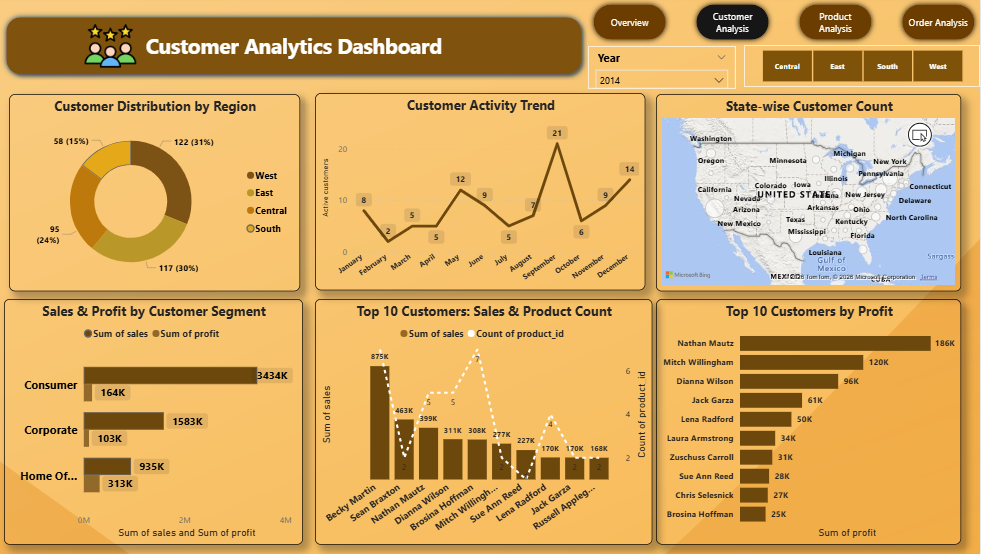

What the dashboard file says about the page in this screenshot:
{"tool":"powerbi","page":{"name":"Customer Analysis","canvas":[1400,800],"ordinal":1},"visuals":[{"type":"donutChart","title":"Customer Distribution by Region","fields":{"Category":["superstore customers.region"],"Y":["CountNonNull(superstore customers.customer_name)"]},"box":[12.6,135.4,415.7,281.9],"z":0},{"type":"map","title":"State-wise Customer Count","fields":{"Category":["superstore customers.state"],"Size":["Count(superstore customers.customer_name)"]},"box":[937,135.4,436.2,281.9],"z":1000},{"type":"clusteredBarChart","title":"Sales & Profit by Customer Segment","fields":{"Category":["superstore customers.segment"],"Y":["Sum(superstore orders_clean.sales)","Sum(superstore orders_clean.profit)"]},"box":[6.3,428.3,426.8,351.2],"z":2000},{"type":"lineStackedColumnComboChart","title":"Top 10 Customers: Sales & Product Count","fields":{"Category":["superstore customers.customer_name"],"Y":["Sum(superstore orders_clean.sales)"],"Y2":["CountNonNull(superstore orders_clean.product_id)"]},"box":[450.4,428.3,481.9,351.2],"z":3000},{"type":"lineChart","title":"Customer Activity Trend","fields":{"Category":["superstore orders_clean.order_date.Variation.Date Hierarchy.Month"],"Y":["superstore customers.Active customers"]},"box":[450.4,133.9,472.4,281.9],"z":4000},{"type":"shape","box":[0,17.3,839.4,99.2],"z":5000},{"type":"image","box":[96.1,29.9,124.4,74],"z":6000},{"type":"clusteredBarChart","title":"Top 10 Customers by Profit","fields":{"Category":["superstore customers.customer_name"],"Y":["Sum(superstore orders_clean.profit)"]},"box":[937,428.3,436.2,351.2],"z":7000},{"type":"slicer","fields":{"Values":["superstore orders_clean.order_date.Variation.Date Hierarchy.Year"]},"box":[839.4,67.7,211,61.4],"z":8000},{"type":"slicer","fields":{"Values":["superstore customers.region"]},"box":[1063,66.1,337,59.8],"z":9000},{"type":"pageNavigator","box":[839.4,0,560.6,66.1],"z":10000}]}

Visuals, with their boxes in screenshot pixels (x1, y1, x2, y2), scaled from the page's 1400x800 canvas onto the 981x554 screenshot:
"Customer Distribution by Region" donutChart: l=9, t=94, r=300, b=289
"State-wise Customer Count" map: l=657, t=94, r=962, b=289
"Sales & Profit by Customer Segment" clusteredBarChart: l=4, t=297, r=303, b=540
"Top 10 Customers: Sales & Product Count" lineStackedColumnComboChart: l=316, t=297, r=653, b=540
"Customer Activity Trend" lineChart: l=316, t=93, r=647, b=288
shape: l=0, t=12, r=588, b=81
image: l=67, t=21, r=155, b=72
"Top 10 Customers by Profit" clusteredBarChart: l=657, t=297, r=962, b=540
slicer - superstore orders_clean.order_date.Variation.Date Hierarchy.Year: l=588, t=47, r=736, b=89
slicer - superstore customers.region: l=745, t=46, r=980, b=87
pageNavigator: l=588, t=0, r=980, b=46
